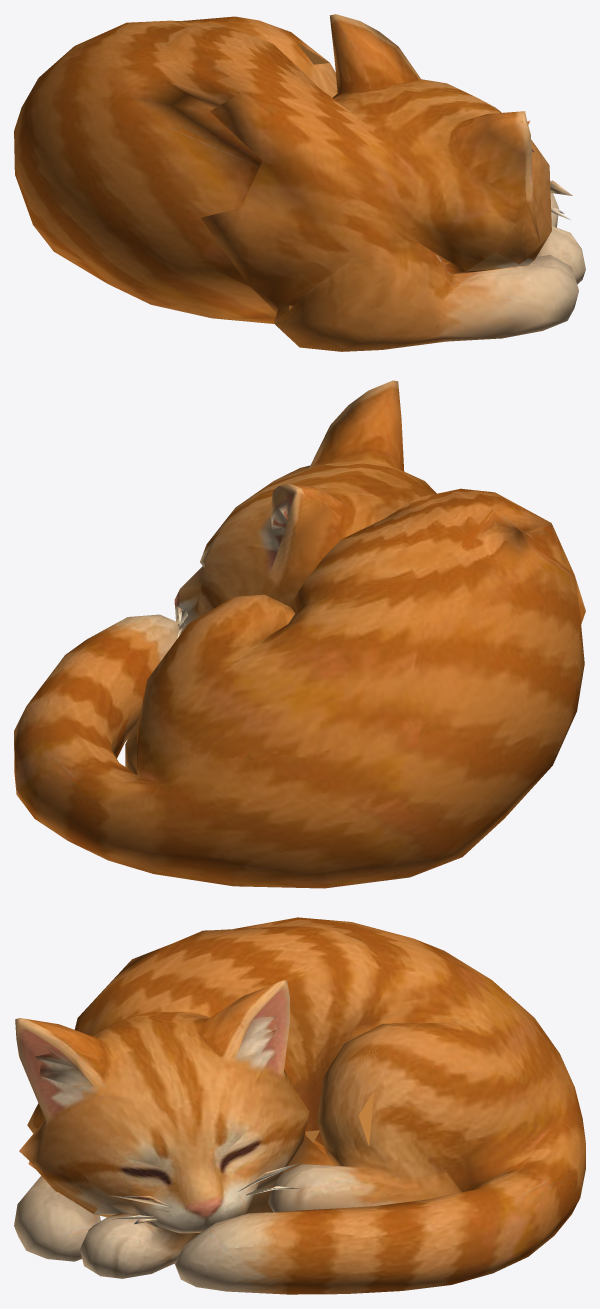
File: cat_sleeping.glb
3 renders of one model, top to bottom at view 1: azimuth 30°, elevation 25°; view 2: azimuth 150°, elevation 25°; view 3: azimuth 270°, elevation 25°, orthographic. The views are drawn at different scales.
Visible parts, largest first — view 1: cat_sleeping, Head; view 2: cat_sleeping, Head; view 3: cat_sleeping, Head.
Part boxes in pixels (x1=…): cat_sleeping: x1=14, y1=16, x2=585, y2=351; Head: x1=282, y1=14, x2=572, y2=273; cat_sleeping: x1=14, y1=487, x2=585, y2=888; Head: x1=174, y1=380, x2=436, y2=638; cat_sleeping: x1=14, y1=917, x2=585, y2=1294; Head: x1=15, y1=980, x2=377, y2=1211.
Bounding box in the file's own units: 0.4521 × 0.2265 × 0.52.
Materials: 1 (1 with a texture image).
